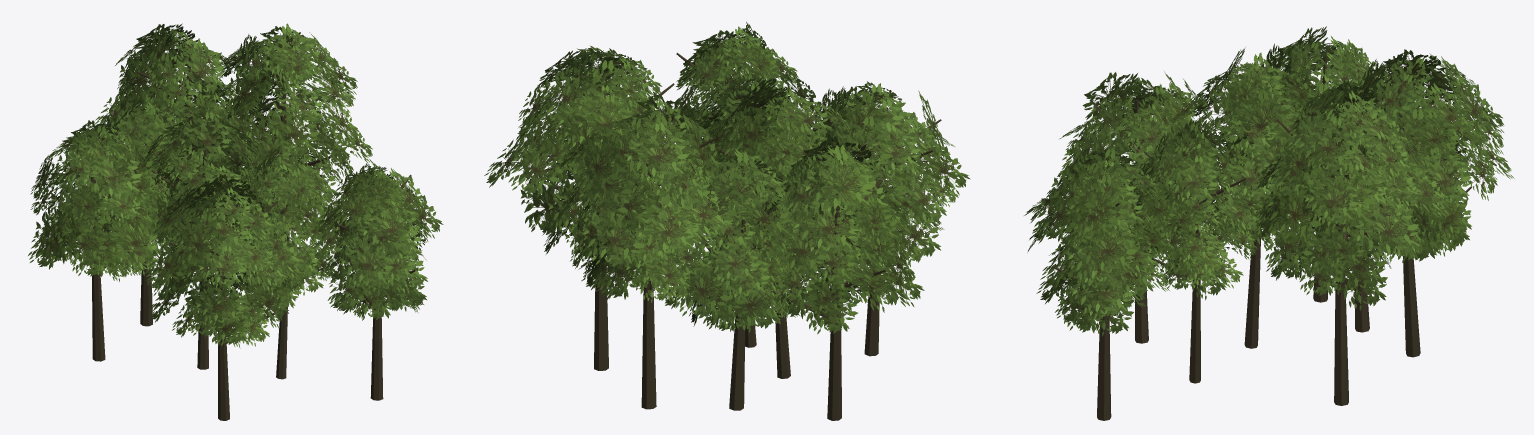
Rendered from TRB8-FOREST-CHUNK-4-2.glb.
The picture shows the model from 3 angles, left to right: view 1: azimuth 30°, elevation 25°; view 2: azimuth 150°, elevation 25°; view 3: azimuth 270°, elevation 25°; orthographic projection. The views are drawn at different scales.
Parts seen in each view (by area): view 1: TRB8-FOREST-CHUNK-4-2; view 2: TRB8-FOREST-CHUNK-4-2; view 3: TRB8-FOREST-CHUNK-4-2.
Boxes of the visible parts, bbox=[...] form: TRB8-FOREST-CHUNK-4-2: bbox=[28, 23, 443, 420]; TRB8-FOREST-CHUNK-4-2: bbox=[484, 22, 970, 420]; TRB8-FOREST-CHUNK-4-2: bbox=[1024, 26, 1514, 420].
Bounding box in the file's own units: 8.25 × 6.52 × 8.94.
Materials: 2 (1 with a texture image).
